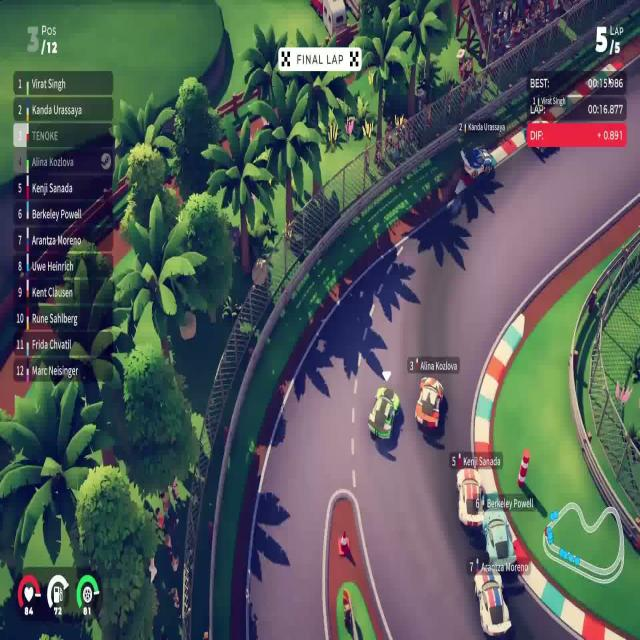car: (472, 560, 512, 636), (481, 508, 517, 571), (456, 466, 486, 532), (367, 385, 400, 442), (414, 374, 444, 432), (460, 144, 494, 182)
